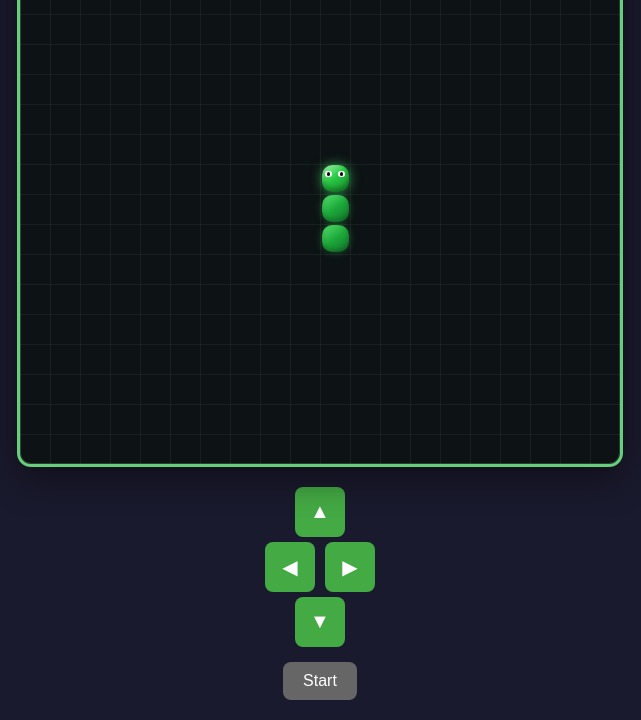
starts, pauses, and resumes from visible controls
The width and height of the screenshot is (641, 720).
(page scrolled)
Step 1. Click the button "Start" → (320, 681), box left=283, top=662, right=357, bottom=700
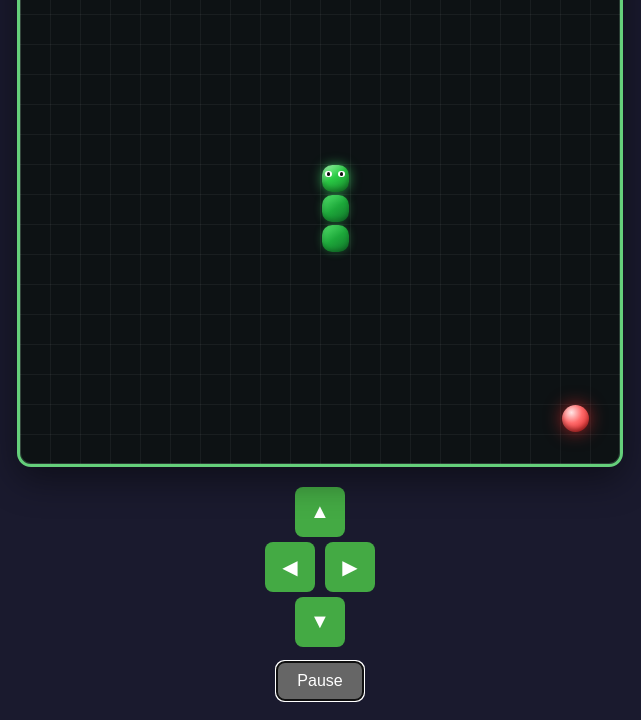
Step 2. Click the button "Pause" → (320, 681), box left=277, top=662, right=363, bottom=700
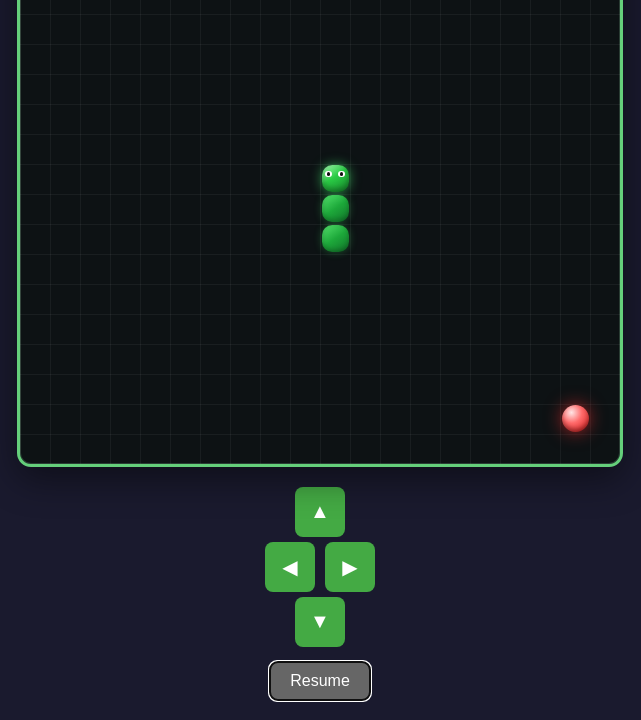
Step 3. Click the button "Resume" → (320, 681), box left=270, top=662, right=370, bottom=700
(page scrolled)
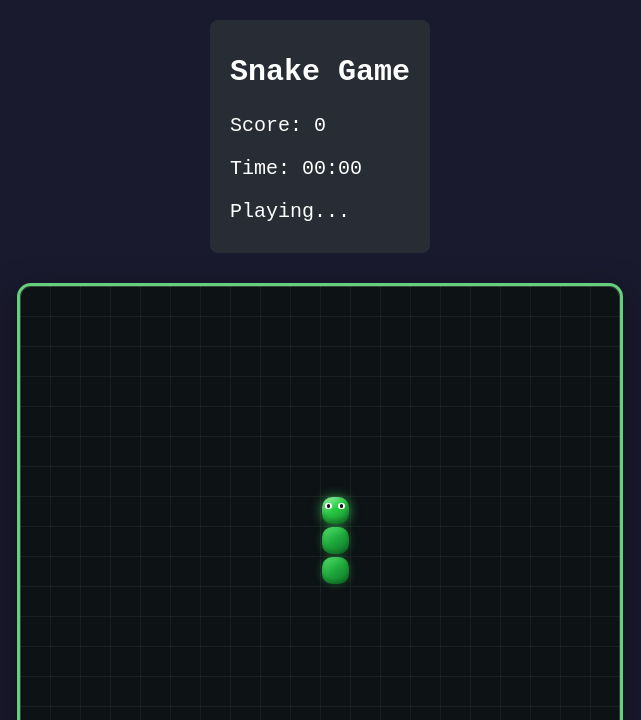
Expected: the text "Playing..." is shown, left=230, top=200, right=350, bottom=223
